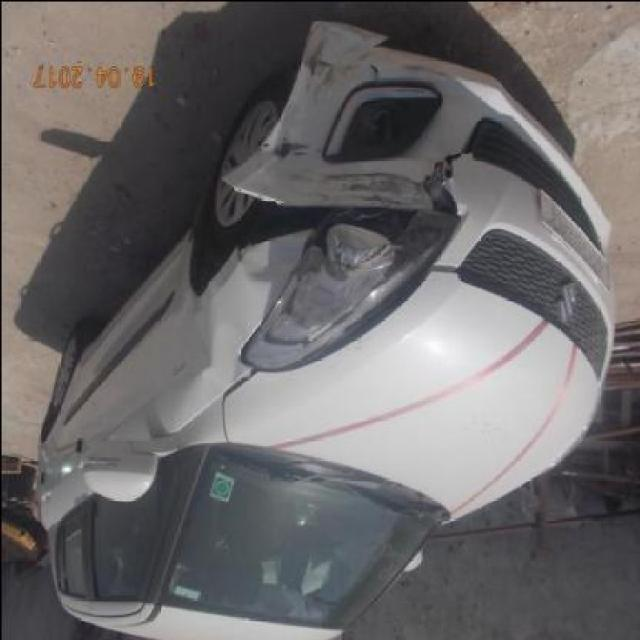damage: (217, 10, 470, 247), (302, 212, 408, 300)
